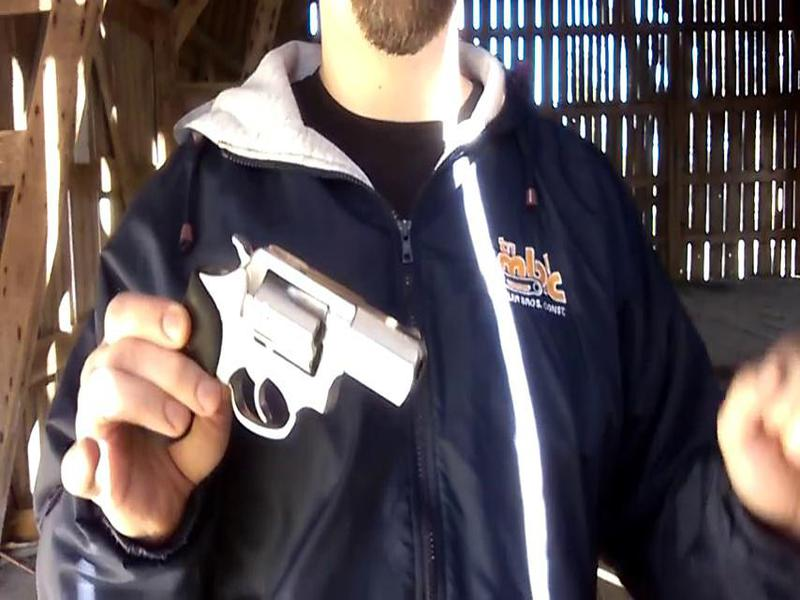Revolver: (170, 224, 447, 454)
